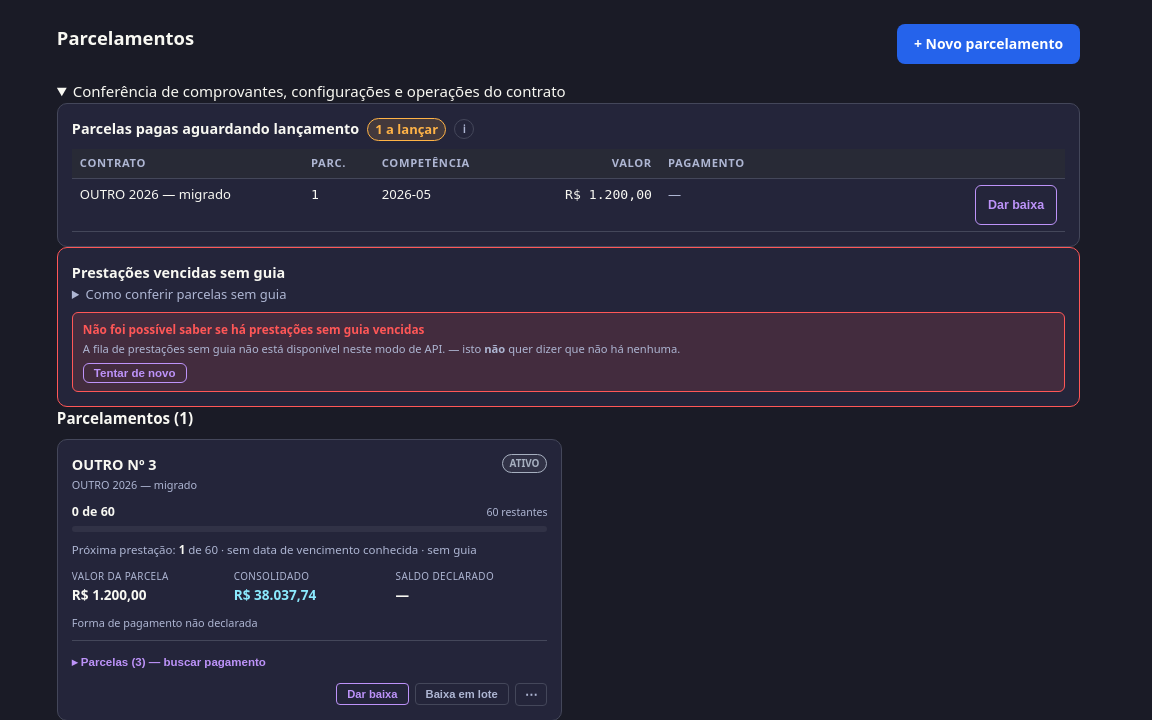
Test case: o 'Dar baixa' do card responde mesmo quando não há o que baixar › com parcela na fila daquele contrato, o destaque é afirmado e o aviso não aparece
Click the button titled "Vai para a fila de parcelas pagas aguardando lançamento, no topo desta aba." below "Forma de pagamento não declarada" at (372, 694), box 336,683 -> 409,705
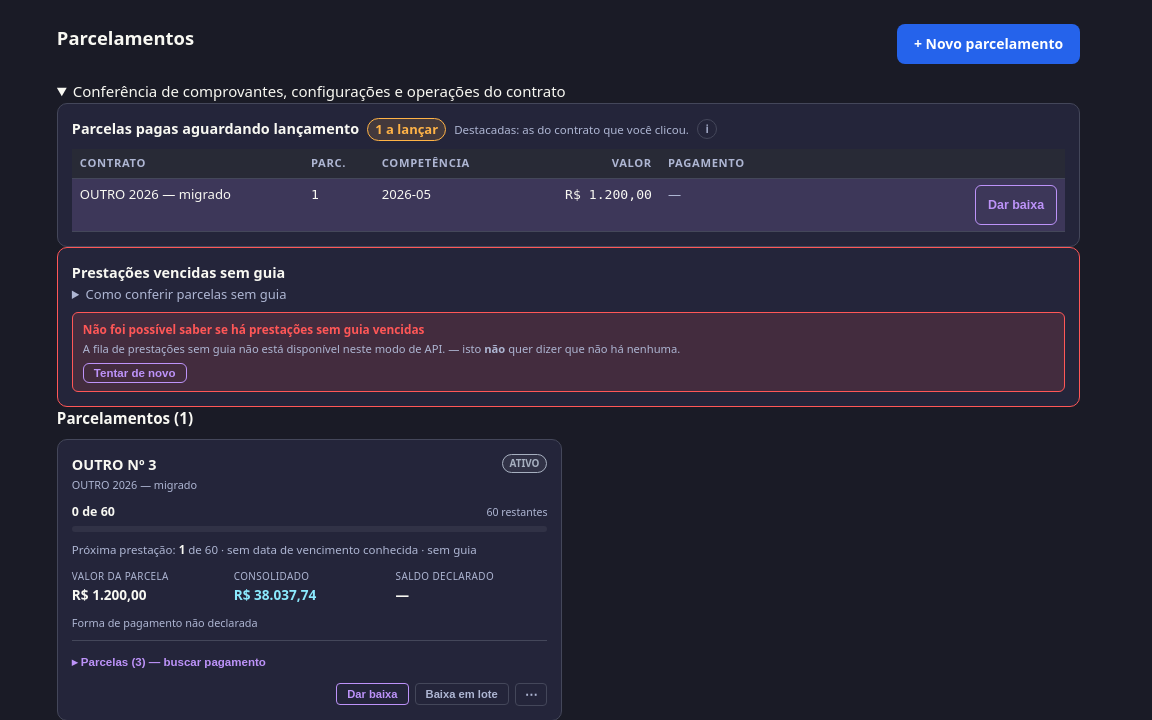
Result: the text "Destacadas: as do contrato que você clicou." is shown at 454,121 -> 689,138
